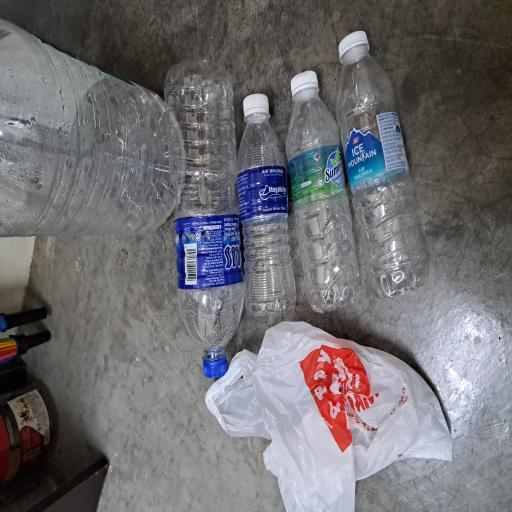plastic bag: (0, 277, 141, 512)
plastic bottle: (204, 0, 363, 248), (122, 219, 341, 323), (146, 380, 319, 474), (138, 314, 301, 388), (155, 450, 343, 512)
plastic bottle cap: (293, 320, 318, 366), (340, 447, 362, 497), (306, 388, 334, 426), (102, 264, 120, 305)
